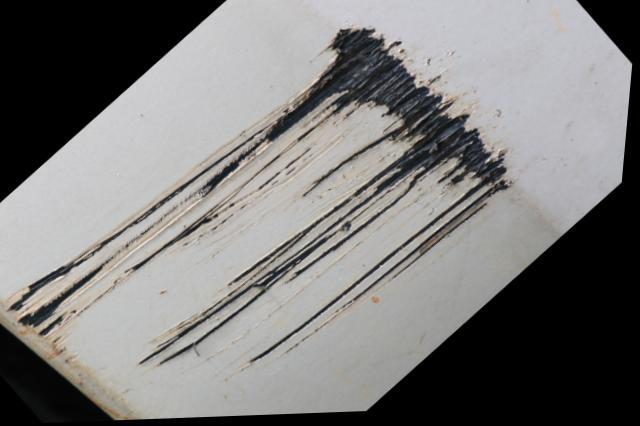scratch: (11, 19, 532, 382)
